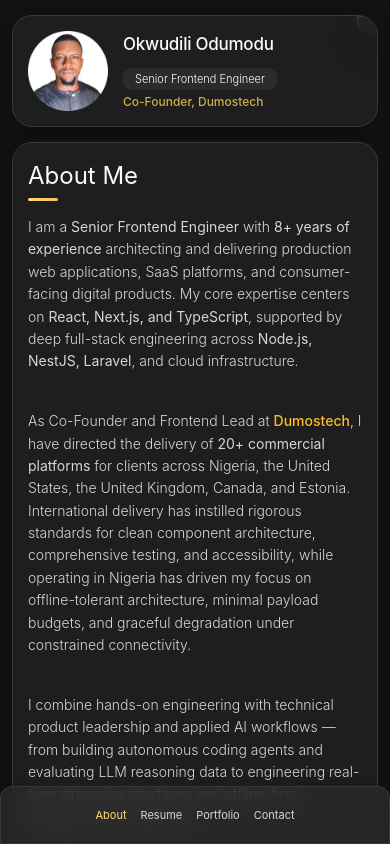
Test: Portfolio App › navigates to Resume tab and displays experience
Click the button "Resume" at (161, 815), box left=134, top=786, right=189, bottom=843
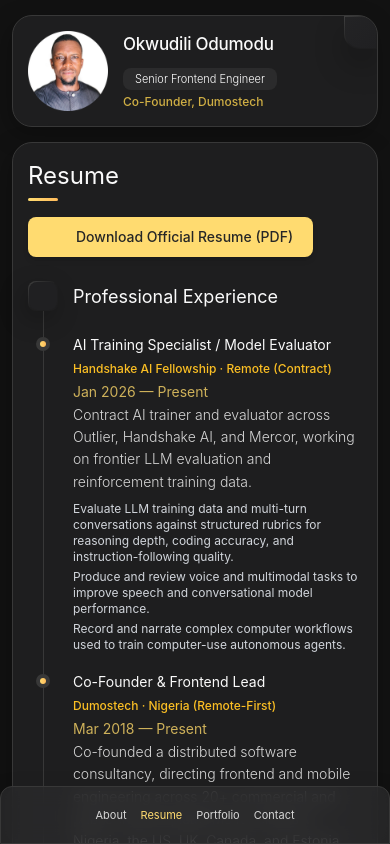
Now the heading "Resume" is shown, box left=28, top=161, right=119, bottom=190
Now the heading "Professional Experience" is shown, box left=73, top=282, right=278, bottom=310
Now the heading "AI Training Specialist / Model Evaluator" is shown, box left=73, top=336, right=362, bottom=354
